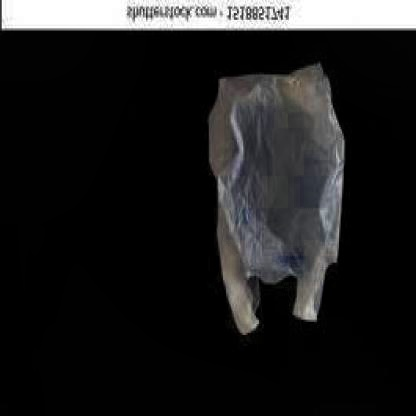pbag: (208, 59, 346, 337)
